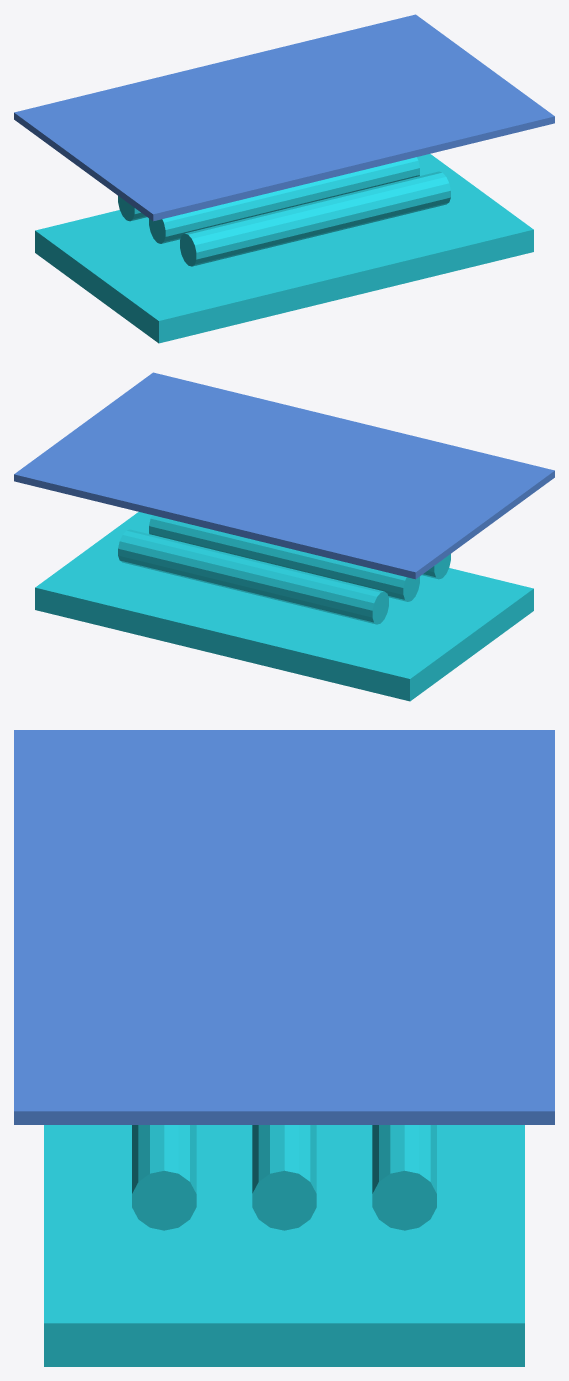
The model's file is HR-124-ASM_public_shell.glb.
3 renders of one model, top to bottom at view 1: azimuth 30°, elevation 25°; view 2: azimuth 150°, elevation 25°; view 3: azimuth 270°, elevation 25°, orthographic. The views are drawn at different scales.
Visible parts, largest first — view 1: HR-124-PV-02 | 4.5m Bifacial Solar Microgrid Canopy, HR-124-SKD-01 | Duplex Marine Skid and SWRO Pressure Vessels; view 2: HR-124-PV-02 | 4.5m Bifacial Solar Microgrid Canopy, HR-124-SKD-01 | Duplex Marine Skid and SWRO Pressure Vessels; view 3: HR-124-PV-02 | 4.5m Bifacial Solar Microgrid Canopy, HR-124-SKD-01 | Duplex Marine Skid and SWRO Pressure Vessels.
Part boxes in pixels (<box>): HR-124-PV-02 | 4.5m Bifacial Solar Microgrid Canopy: <box>14,14,554,221</box>; HR-124-SKD-01 | Duplex Marine Skid and SWRO Pressure Vessels: <box>35,154,533,343</box>; HR-124-PV-02 | 4.5m Bifacial Solar Microgrid Canopy: <box>14,372,554,579</box>; HR-124-SKD-01 | Duplex Marine Skid and SWRO Pressure Vessels: <box>35,512,533,701</box>; HR-124-PV-02 | 4.5m Bifacial Solar Microgrid Canopy: <box>14,730,554,1124</box>; HR-124-SKD-01 | Duplex Marine Skid and SWRO Pressure Vessels: <box>44,1125,524,1366</box>.
Bounding box in the file's own units: 15 × 4.93 × 9.
